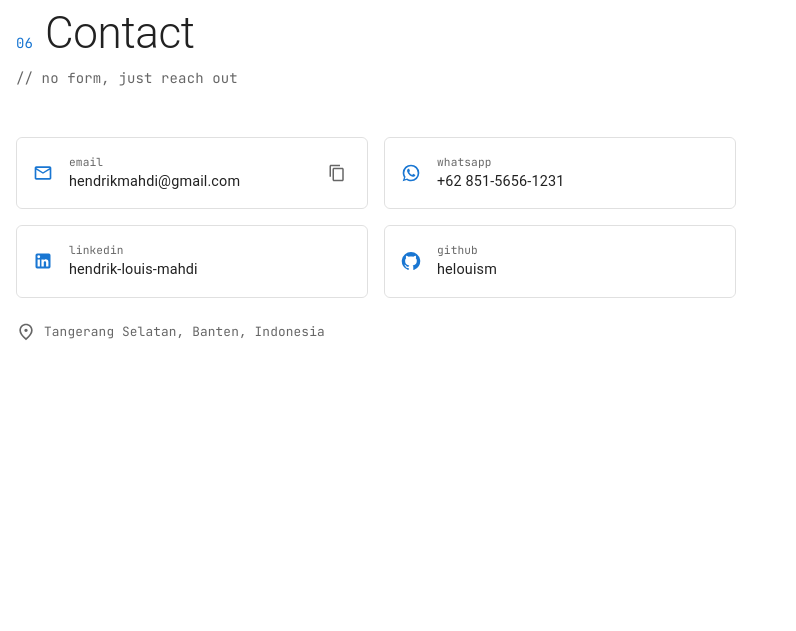
Test: Contact copy button › tells the user when the copy fails
What coordinates should you click on to do the following:
click the button named "copy email"
I would click on:
 (337, 173)
Its box is [323, 159, 351, 187].
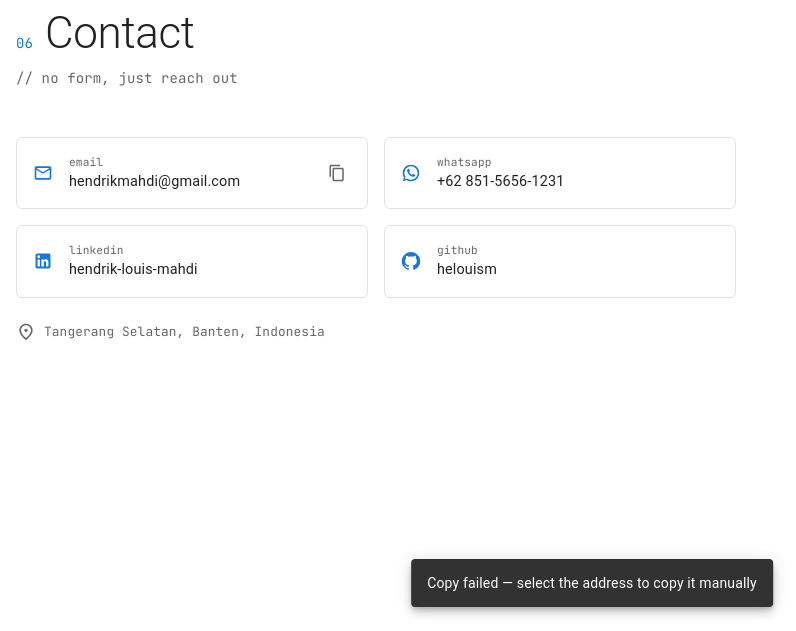
Expected: the text "Copy failed — select the address to copy it manually" is shown, [427, 575, 757, 591]
